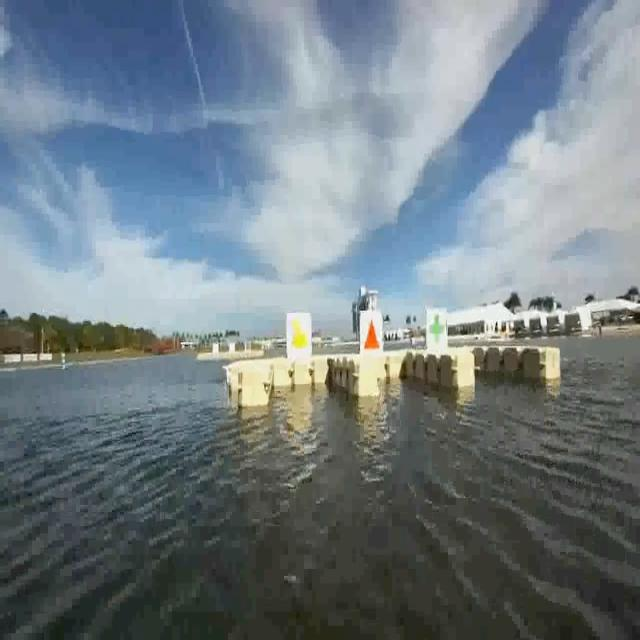blue-cross: (426, 305, 446, 350)
red-dot: (358, 310, 383, 348)
yellow-duck: (290, 316, 308, 350)
